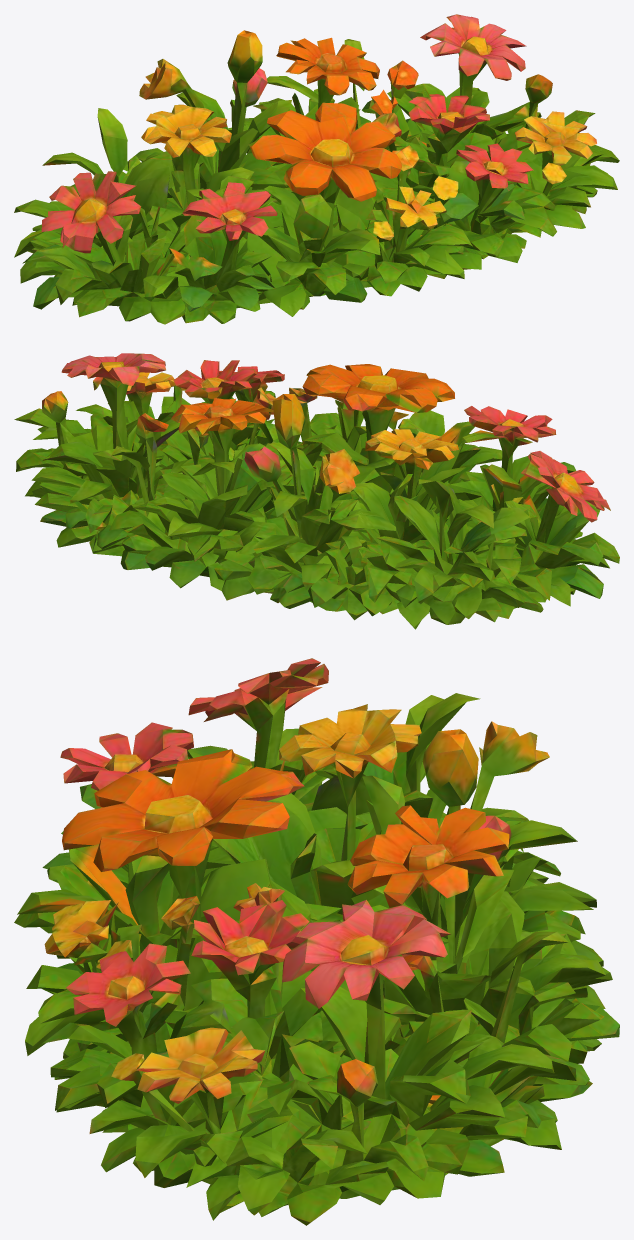
File: neon-bloom.glb
3 views of the same model, one above another, from view 1: azimuth 30°, elevation 25°; view 2: azimuth 150°, elevation 25°; view 3: azimuth 270°, elevation 25° (orthographic). The views are drawn at different scales.
Visible parts, largest first — view 1: output_unwrapped; view 2: output_unwrapped; view 3: output_unwrapped.
Part boxes in pixels (box(x1,y1,x2,y2)): output_unwrapped: box(14, 14, 619, 324); output_unwrapped: box(14, 353, 619, 629); output_unwrapped: box(14, 658, 619, 1225).
Bounding box in the file's own units: 1.9 × 0.5488 × 1.1.
1 material, 1 textured.
